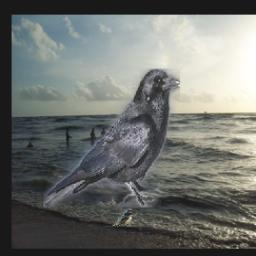Crow: (43, 69, 180, 208)
Swallow: (106, 208, 132, 227)
